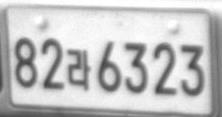2: (153, 41, 177, 95), (40, 37, 64, 89)
3: (180, 43, 205, 97), (123, 41, 148, 93)
6: (97, 40, 122, 92)
8: (13, 36, 38, 88)
라: (66, 48, 91, 91)
